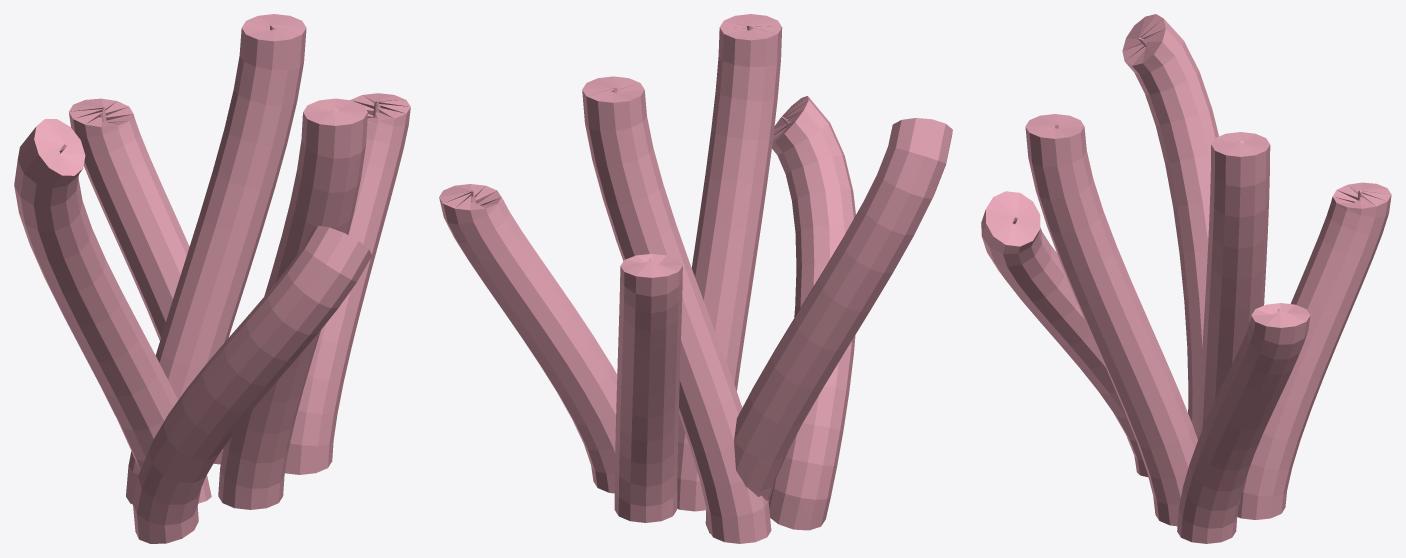
The model's file is EsponjaFlorero.fbx.
3 views of the same model, side by side, from view 1: azimuth 30°, elevation 25°; view 2: azimuth 150°, elevation 25°; view 3: azimuth 270°, elevation 25° (orthographic). The views are drawn at different scales.
Parts seen in each view (by area): view 1: EsponjaFlorero; view 2: EsponjaFlorero; view 3: EsponjaFlorero.
Boxes of the visible parts, x1=… form: EsponjaFlorero: x1=14, y1=14, x2=410, y2=543; EsponjaFlorero: x1=439, y1=14, x2=952, y2=543; EsponjaFlorero: x1=981, y1=14, x2=1391, y2=543.
Size of the model in its own units: 0.572 by 0.5391 by 0.4938.
